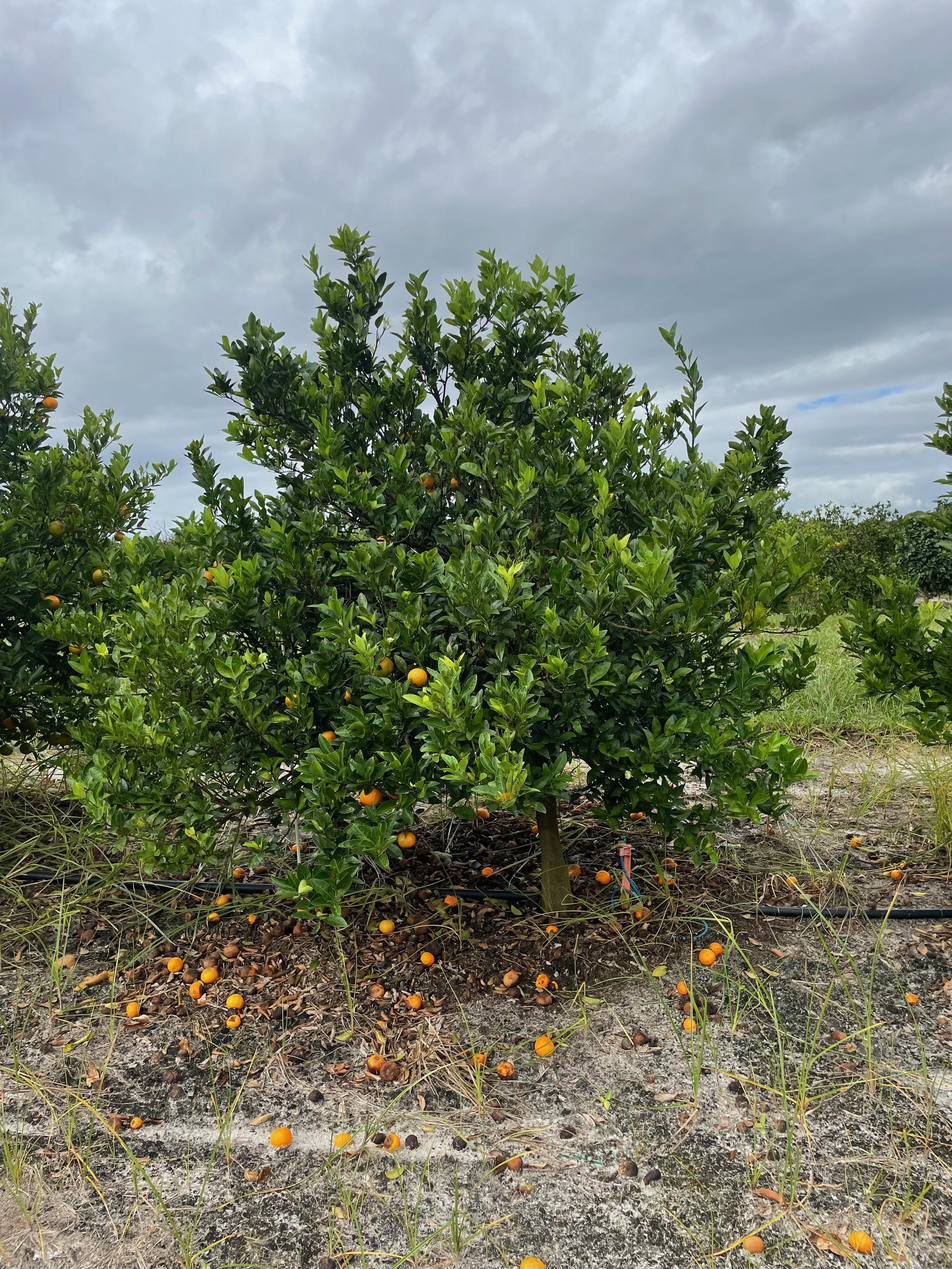fruit_on_ground: (369, 652, 397, 680), (357, 784, 384, 809), (404, 665, 429, 690), (282, 688, 307, 712), (415, 468, 439, 493), (371, 531, 394, 553), (494, 784, 518, 805), (66, 636, 89, 657), (395, 828, 417, 849), (195, 566, 215, 588), (41, 592, 63, 612), (46, 518, 68, 538), (63, 500, 84, 520), (90, 566, 110, 586), (40, 393, 61, 412), (337, 686, 356, 706), (45, 728, 65, 747), (318, 726, 338, 745), (385, 784, 404, 803), (21, 714, 39, 732), (114, 503, 132, 521), (18, 739, 36, 757), (1, 713, 18, 732), (56, 730, 73, 747), (0, 740, 16, 757), (112, 528, 128, 543)
fruit_on_tree: (847, 1227, 875, 1254), (268, 1125, 294, 1148), (742, 1232, 765, 1255), (534, 1035, 556, 1058), (380, 1061, 402, 1082), (494, 1060, 516, 1081), (517, 1253, 547, 1268), (377, 916, 397, 936), (365, 1052, 385, 1072), (697, 947, 718, 966), (502, 968, 523, 987), (200, 965, 221, 984), (221, 939, 241, 958), (164, 954, 184, 973), (383, 1131, 402, 1151), (593, 867, 613, 886), (224, 992, 245, 1010), (332, 1130, 352, 1148), (470, 1052, 490, 1070), (631, 904, 652, 921), (366, 982, 385, 1000), (829, 1026, 848, 1044), (405, 992, 423, 1010), (418, 949, 436, 967), (224, 1013, 243, 1030), (706, 940, 726, 956), (534, 991, 554, 1007), (660, 855, 678, 872), (188, 980, 205, 998), (124, 1000, 141, 1018), (681, 1015, 698, 1033), (442, 892, 460, 908), (506, 1155, 524, 1171), (474, 804, 492, 820), (291, 919, 308, 935), (535, 972, 551, 989), (239, 964, 257, 979), (415, 885, 433, 900), (128, 1115, 144, 1131), (567, 862, 583, 878), (200, 954, 218, 968), (675, 978, 689, 995), (903, 991, 920, 1005), (632, 1030, 647, 1045), (215, 891, 231, 905), (231, 865, 247, 879), (479, 863, 495, 877), (543, 921, 560, 934), (546, 978, 560, 993), (206, 910, 221, 924), (652, 871, 667, 885), (254, 862, 269, 876), (785, 873, 800, 887), (415, 921, 429, 935), (289, 841, 304, 854), (680, 1000, 693, 1015), (629, 808, 644, 821), (850, 835, 865, 848), (889, 867, 903, 880), (662, 874, 677, 886), (528, 822, 541, 835), (246, 912, 259, 925)
